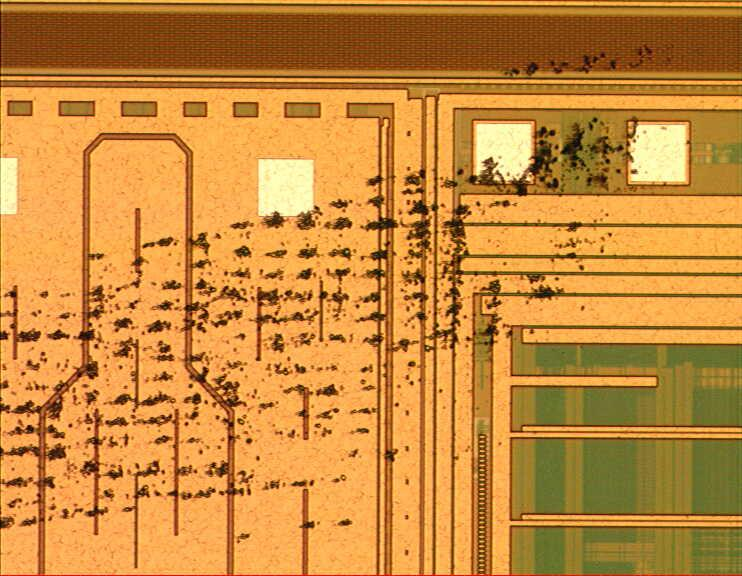SCRATCH: (1, 39, 704, 569)
